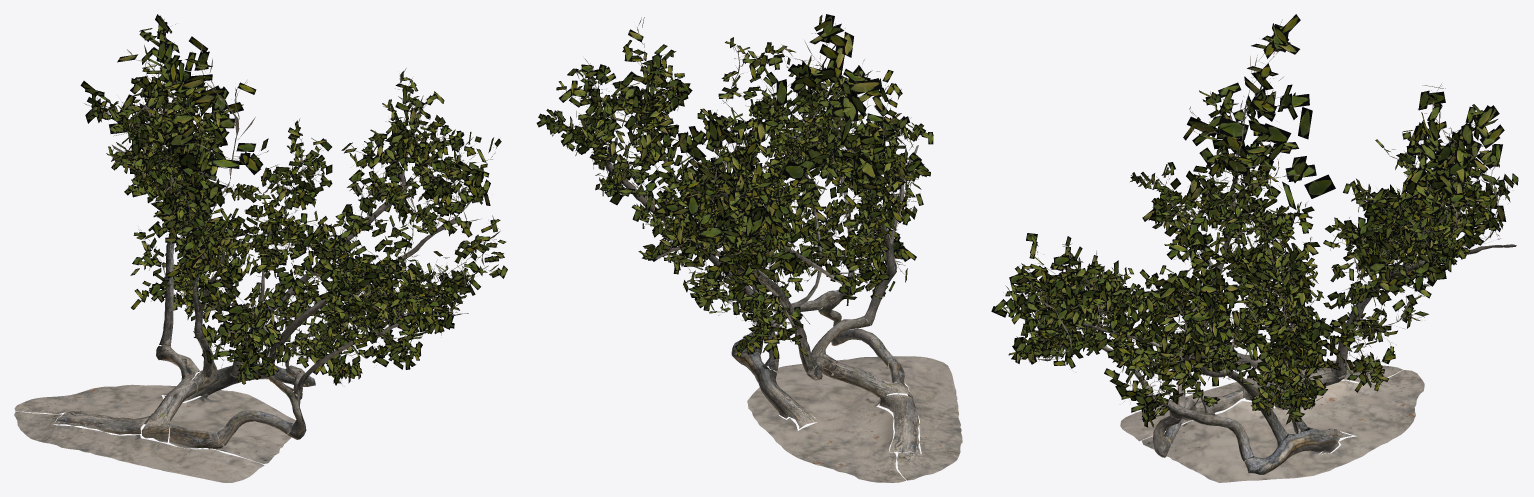
File: tree_d.glb
The picture shows the model from 3 angles, left to right: view 1: azimuth 30°, elevation 25°; view 2: azimuth 150°, elevation 25°; view 3: azimuth 270°, elevation 25°; orthographic projection. The views are drawn at different scales.
Visible parts, largest first — view 1: out; view 2: out; view 3: out.
Part boxes in pixels (<box>): out: <box>14,14,507,482</box>; out: <box>536,14,962,482</box>; out: <box>991,14,1518,482</box>.
Bounding box in the file's own units: 2.99 × 2.61 × 2.92.
Materials: 3 (3 with a texture image).
